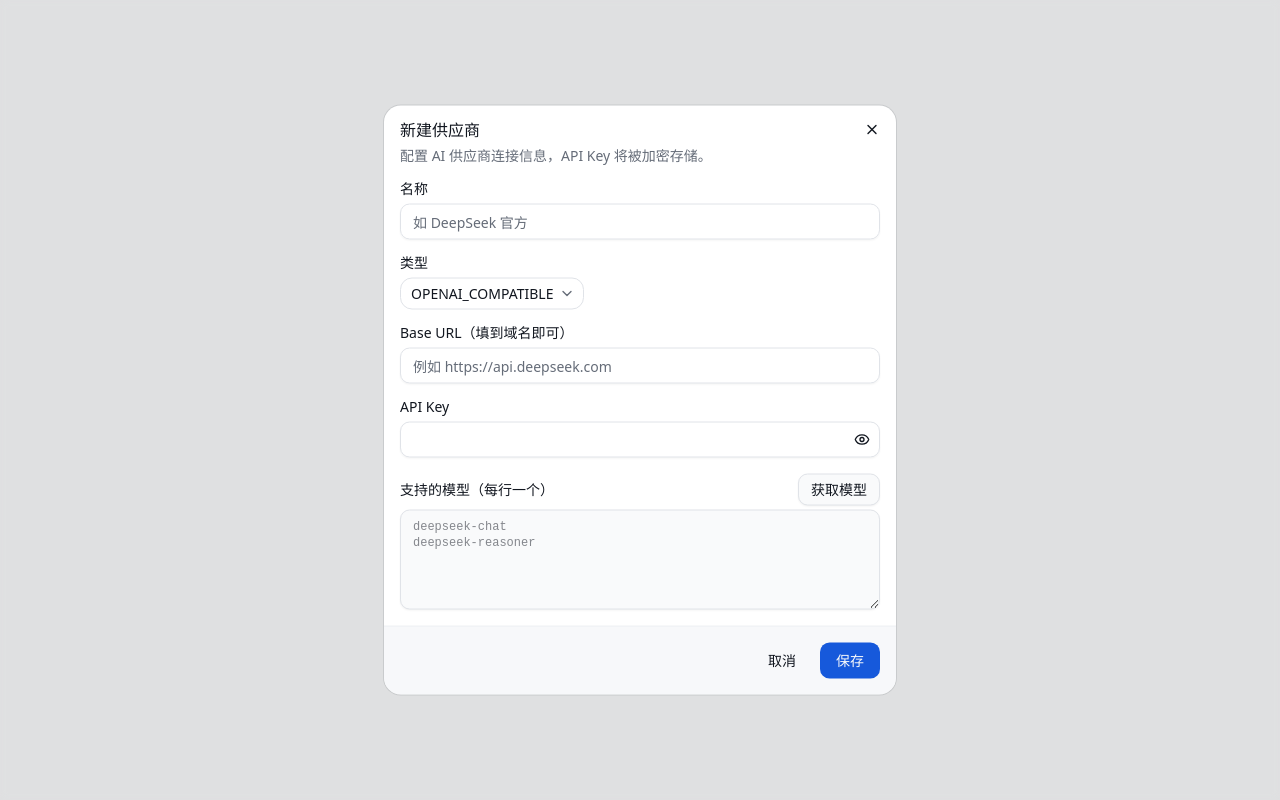
ProviderFormDialog › 面板内逐模型测试显示结果徽章
Type "https://x" into the field labelled "Base URL（填到域名即可）" at (640, 366), box [400,348,880,384]
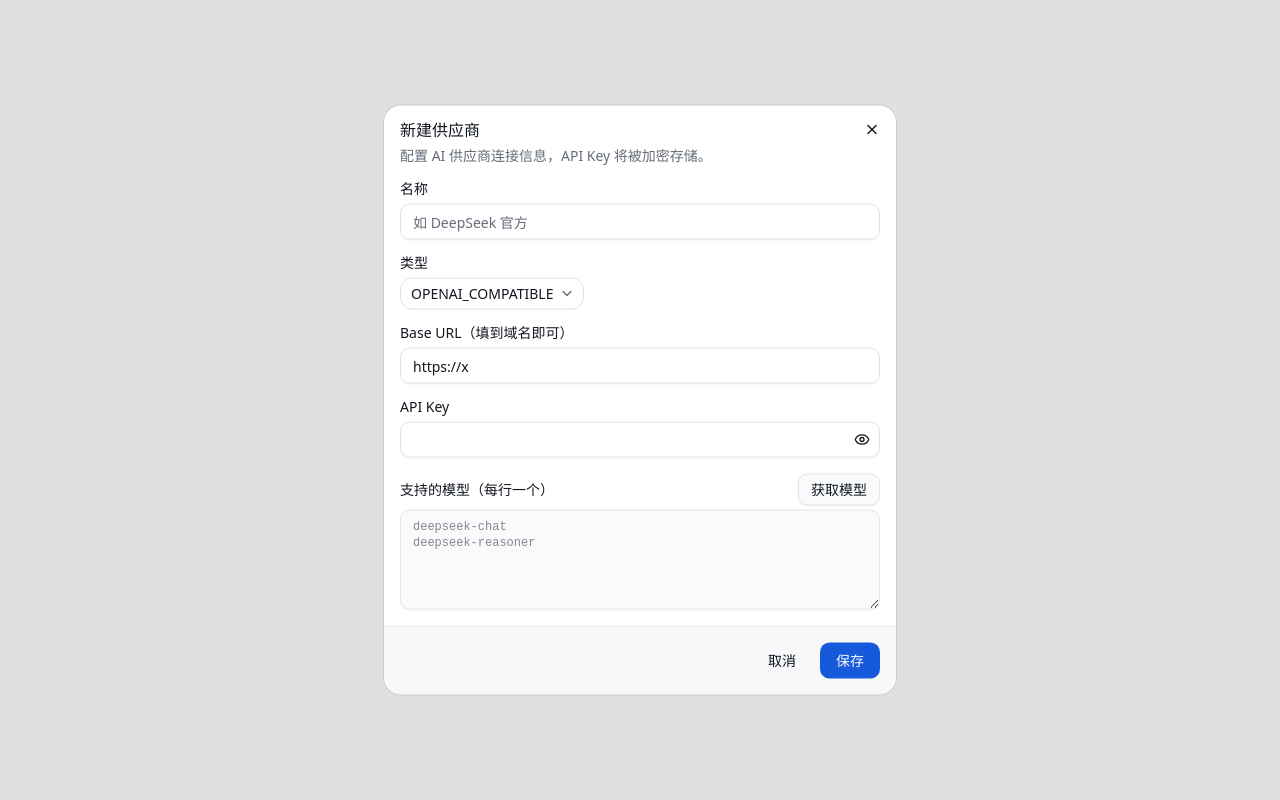
Click the button with test id "fetch-models" at (839, 490), box [798,474,880,506]
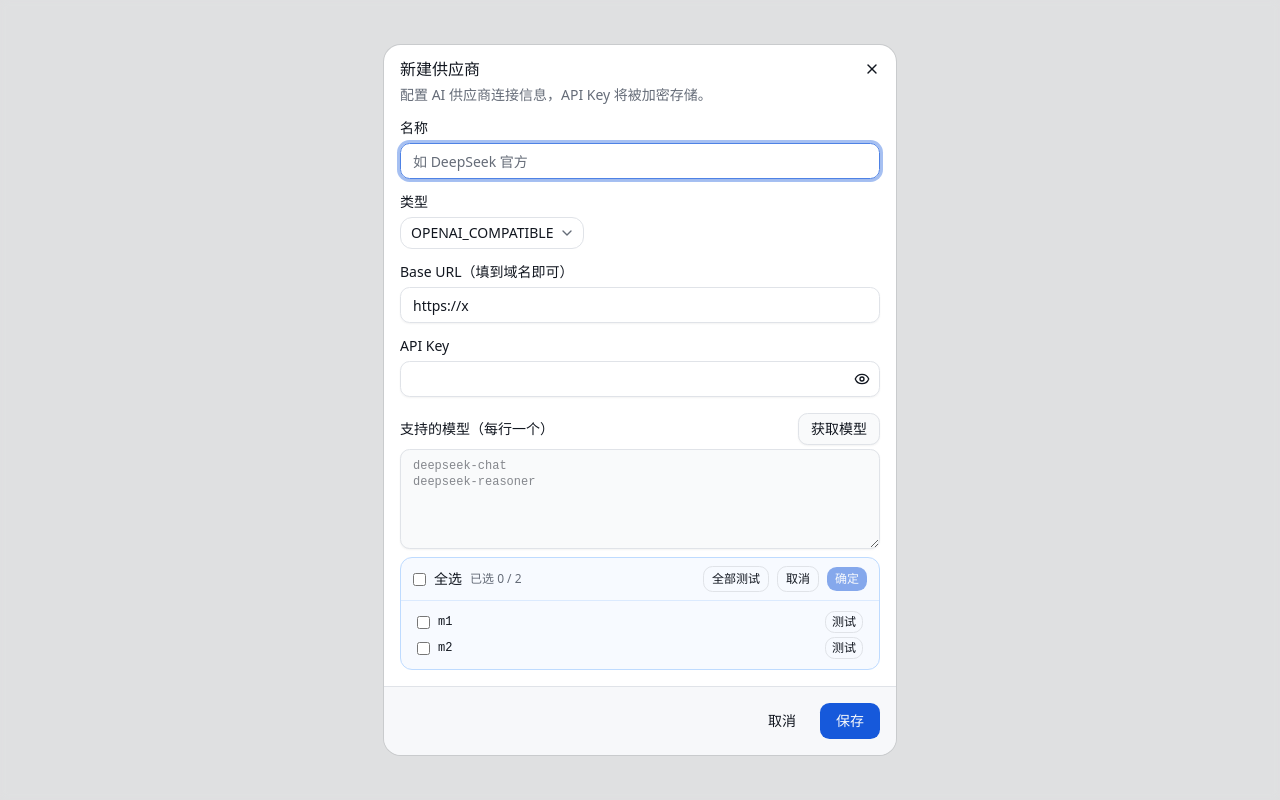
Expected: the element with test id "fetched-models-panel" is shown, [400,557,880,670]
Click the button with aria-label "测试模型 m1" at (844, 622), box [825,611,863,633]
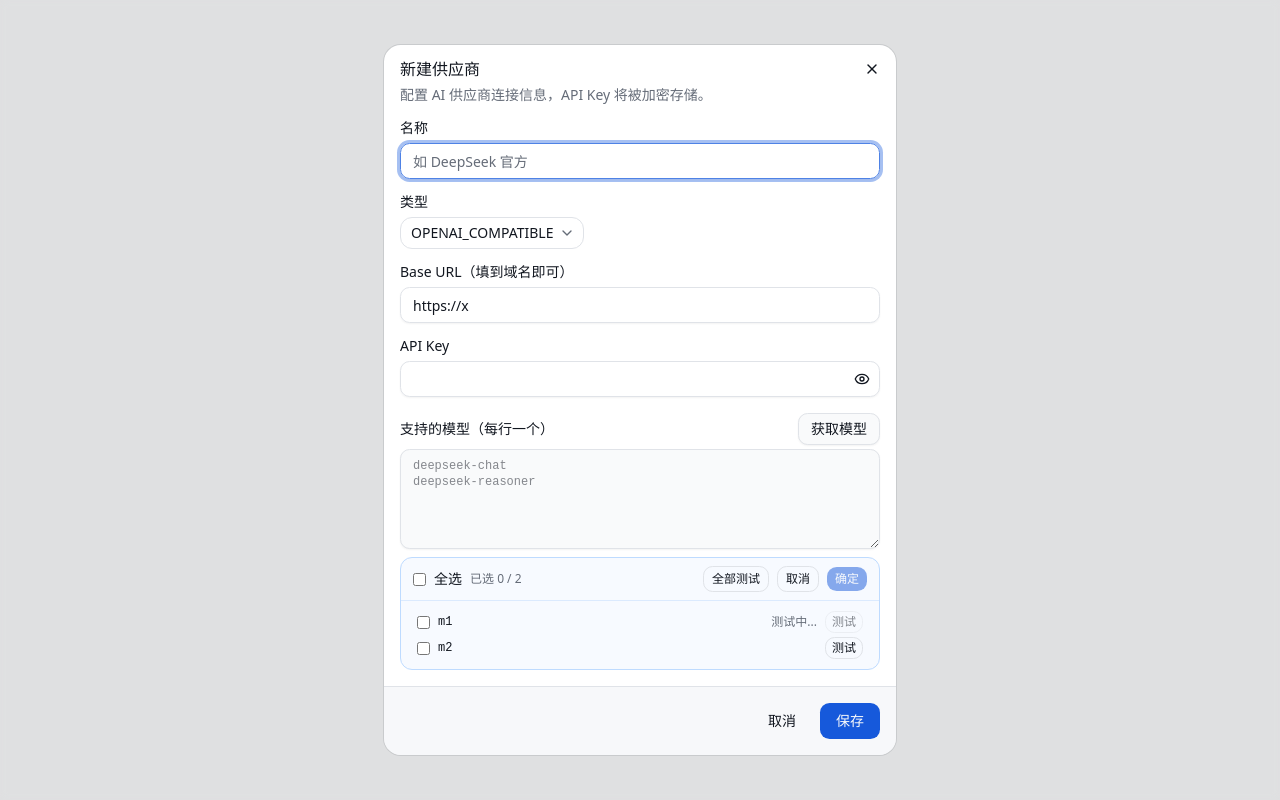
Click the button with aria-label "测试模型 m2" at (844, 648), box [825,637,863,659]
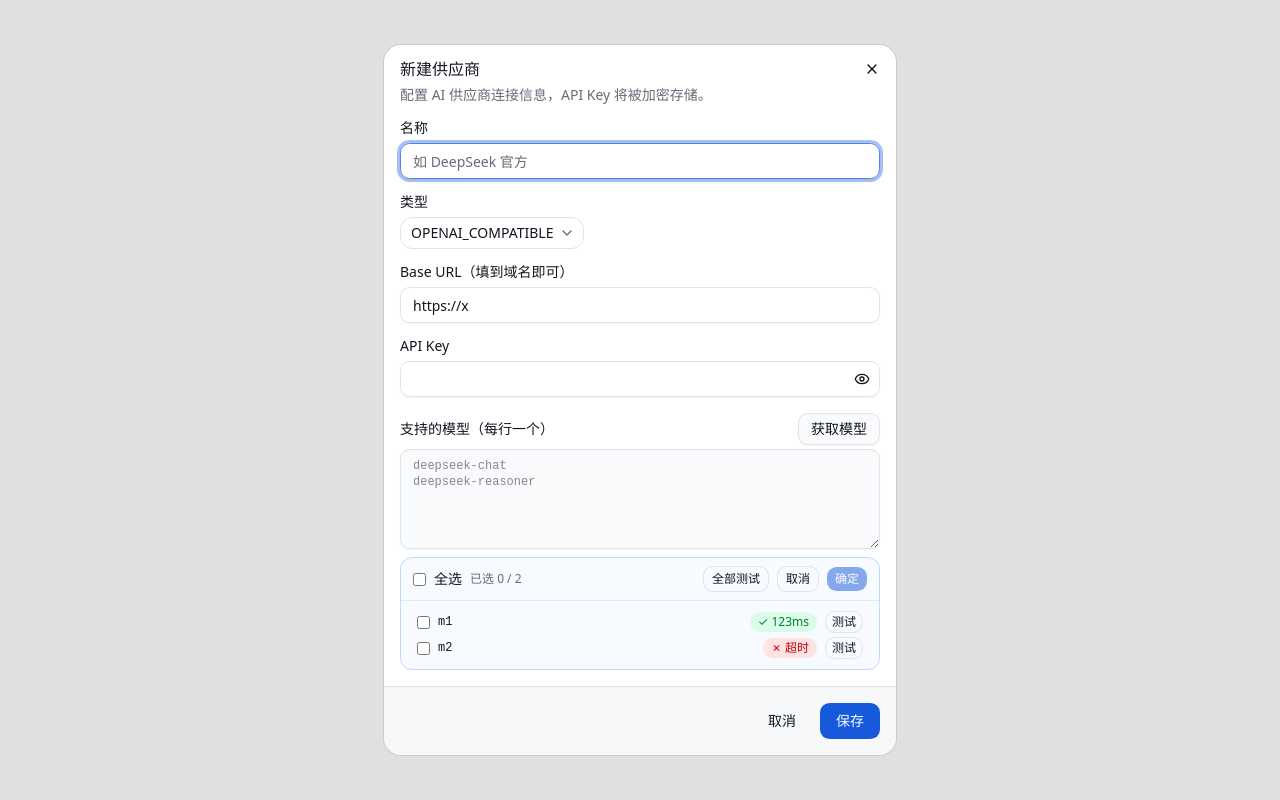
Expected: the text "✓ 123ms" is shown, [750,612,817,632]
Expected: the text "✗ 超时" is shown, [763,638,817,658]
